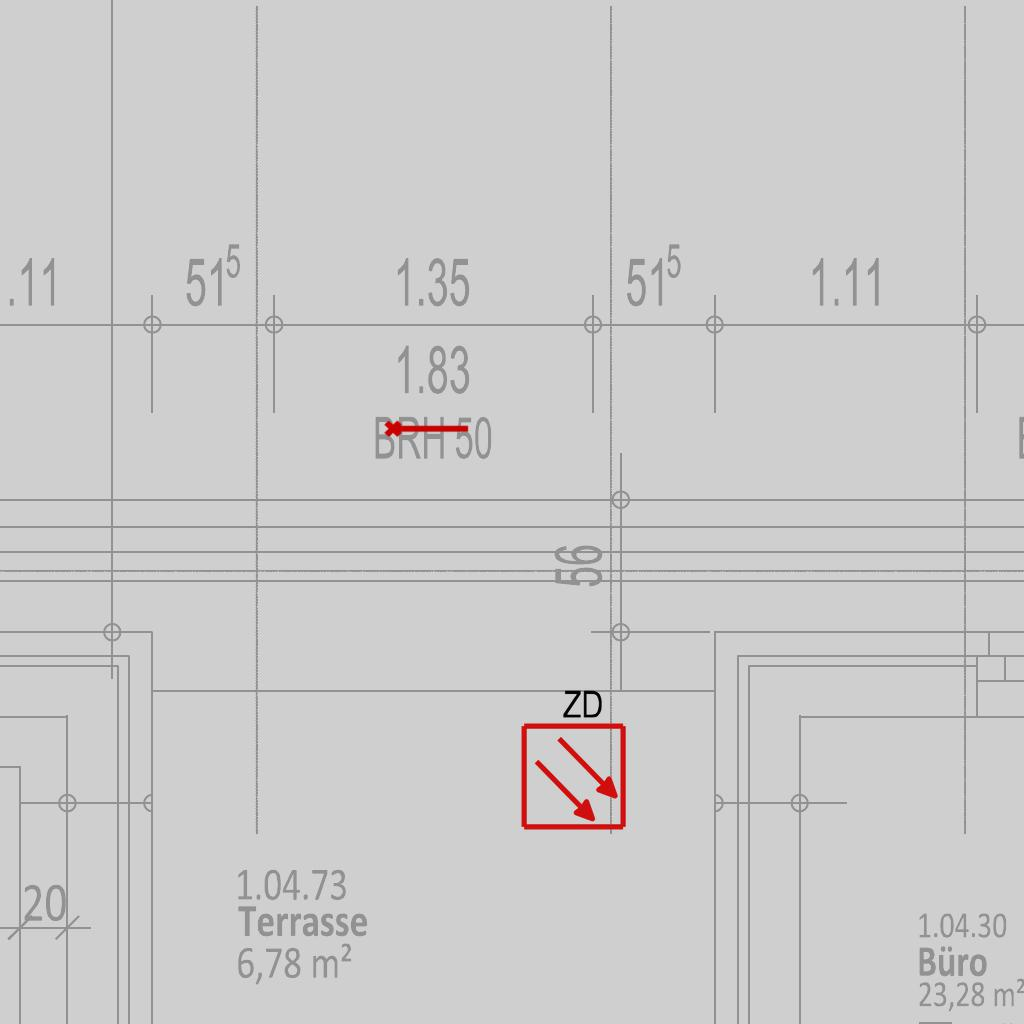ASR_Ansaugoeffnung: (383, 416, 471, 439)
ZD_Melder_in_Zwischendecke_mit_Revisionsoeffnung_mind_40_x_40_cm: (515, 683, 629, 832)
